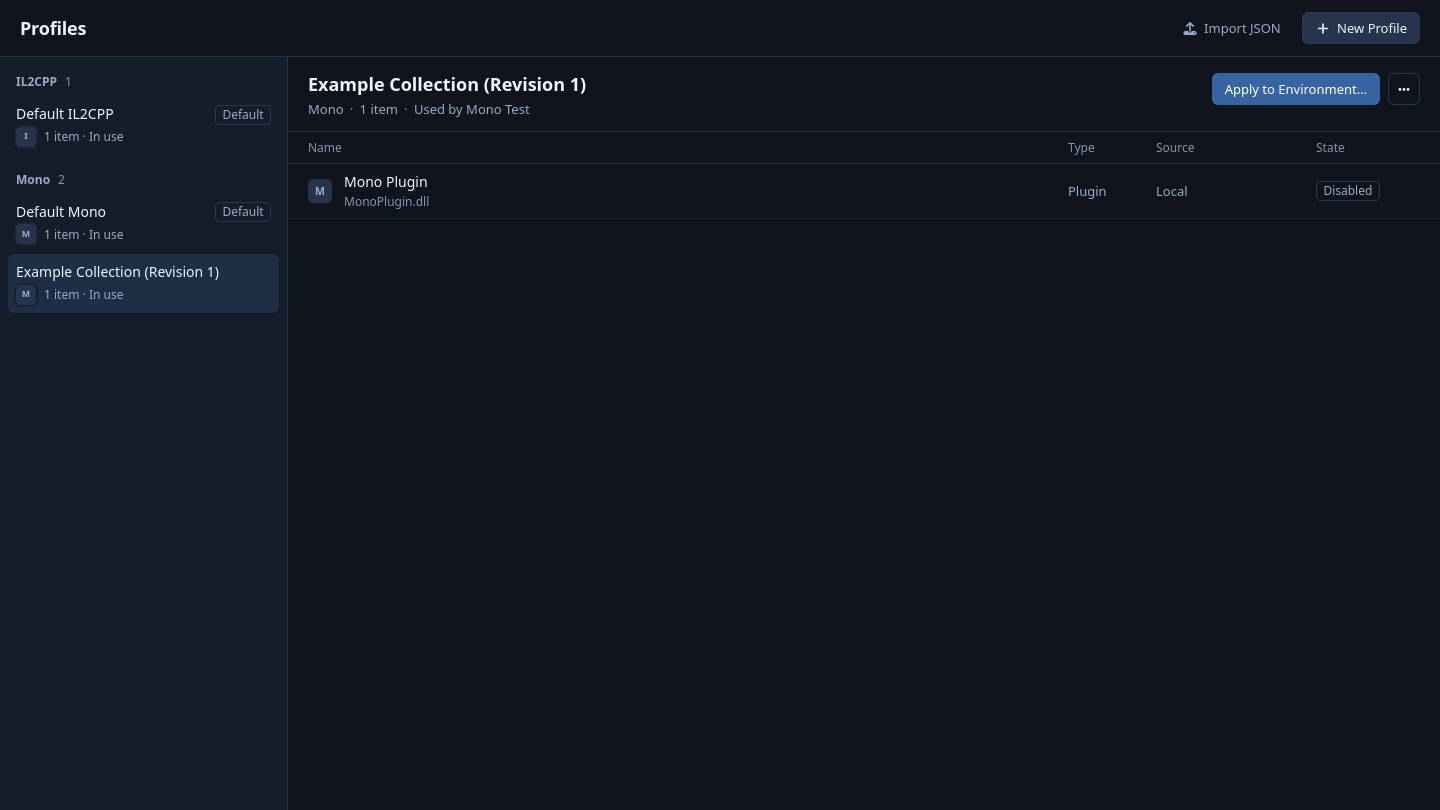
Scenario: ProfilesWorkspace › allows selecting another profile after consuming an initially requested profile
Expected: the heading "Example Collection (Revision 1)" is shown, x1=308 y1=73 x2=586 y2=96
Click the button "Default Mono Default M 1 item · In use". click: x=61, y=212
box: x1=8 y1=194 x2=279 y2=252
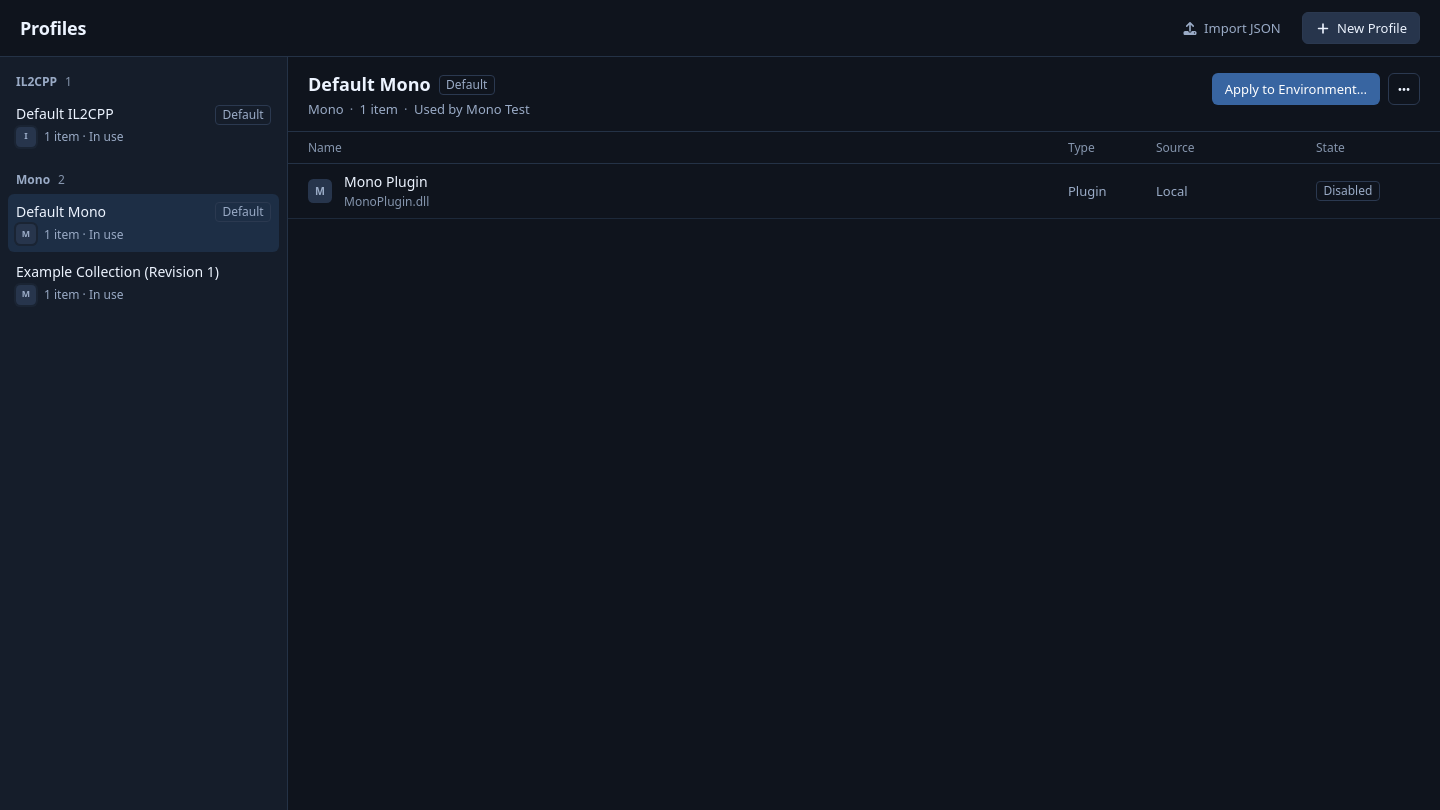
Expected: the heading "Default Mono" is shown, x1=308 y1=73 x2=431 y2=96
